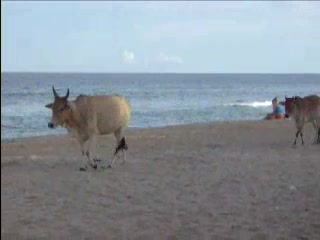cow: (45, 87, 132, 173)
